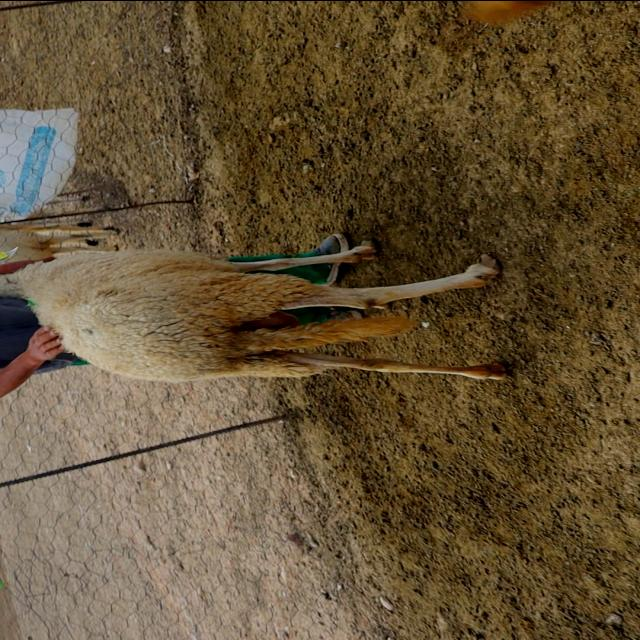Score_4: (0, 240, 506, 382)
